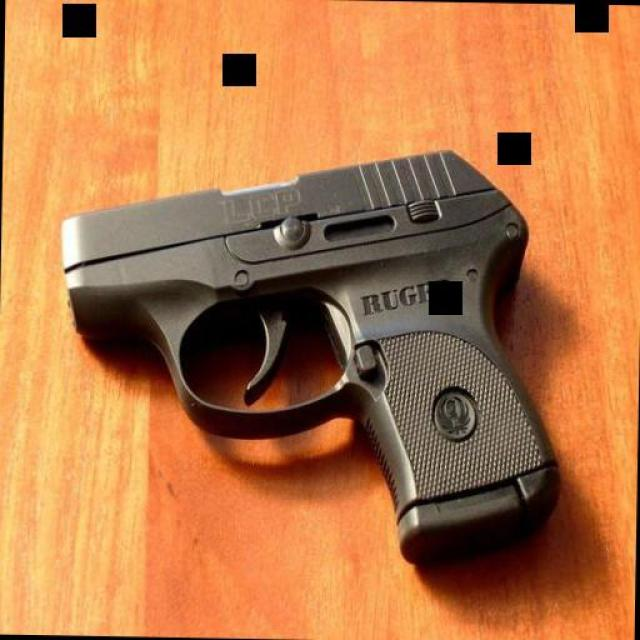gun: (50, 144, 580, 570)
